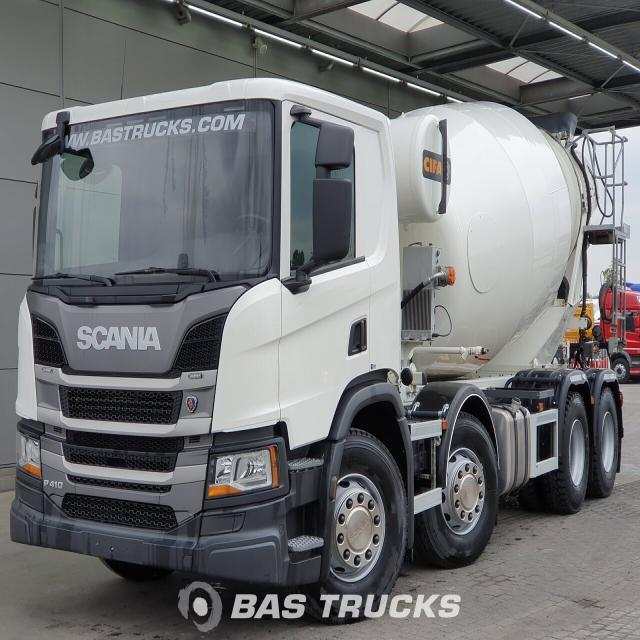Mixer Truck: (11, 77, 629, 622)
